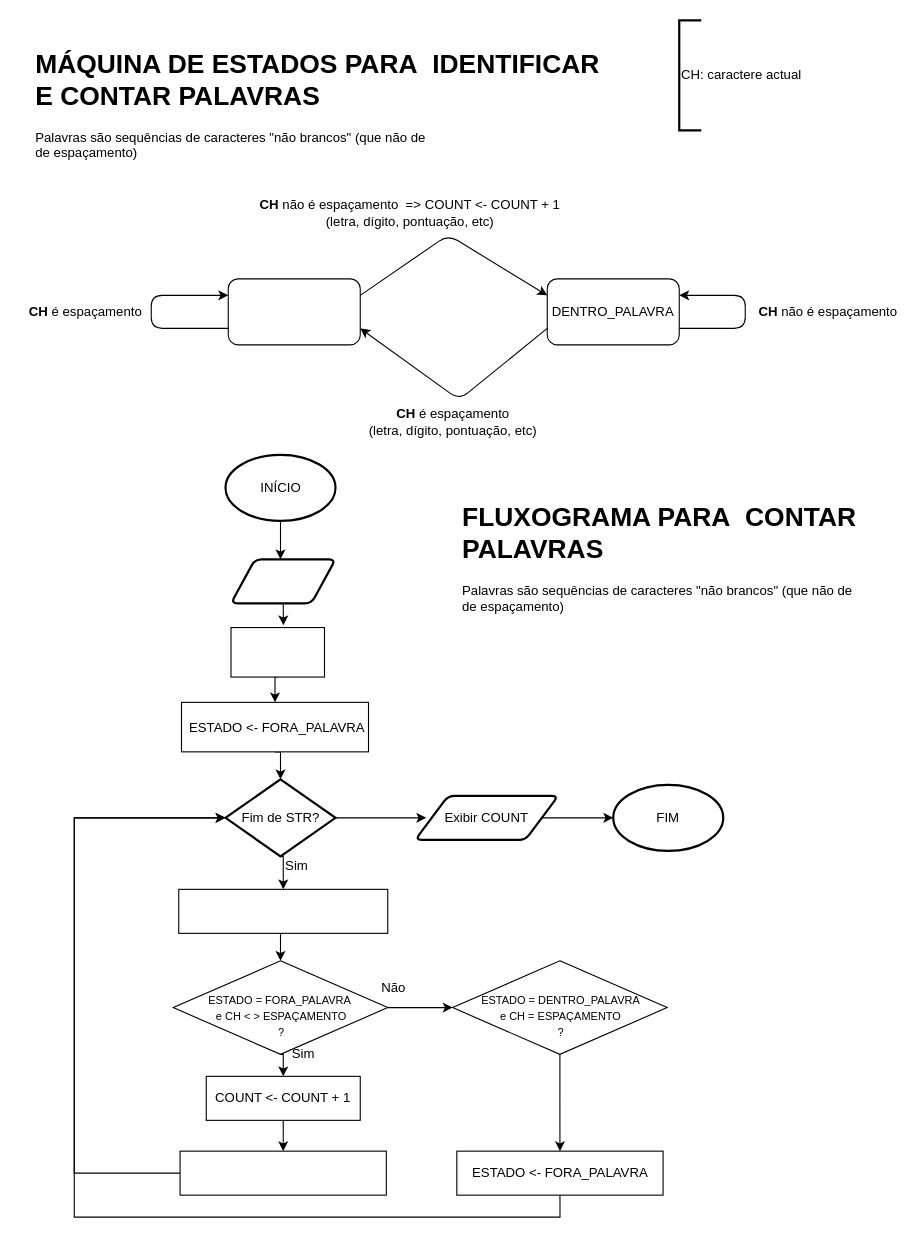
Some shapes in this 923 by 1245 pixel diagram are drawn without their labels. The shapes that lost their labels are listed below. From the top down, each one's centre as x and y in pixels, then its label:
(293,311): FORA_PALAVRA
(282,581): Ler STR
(277,651): COUNT <- 0
(283,910): CH <- Próximo Caractere(STR)
(282,1172): ESTADO <- DENTRO_PALAVRA
